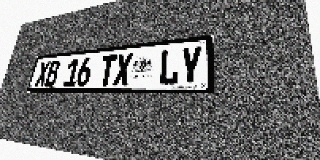1: (63, 58, 81, 86)
6: (75, 57, 94, 86)
B: (44, 60, 61, 87)
L: (158, 48, 180, 85)
T: (98, 54, 117, 86)
X: (113, 53, 133, 86), (34, 61, 51, 87)
Y: (179, 46, 202, 85)
